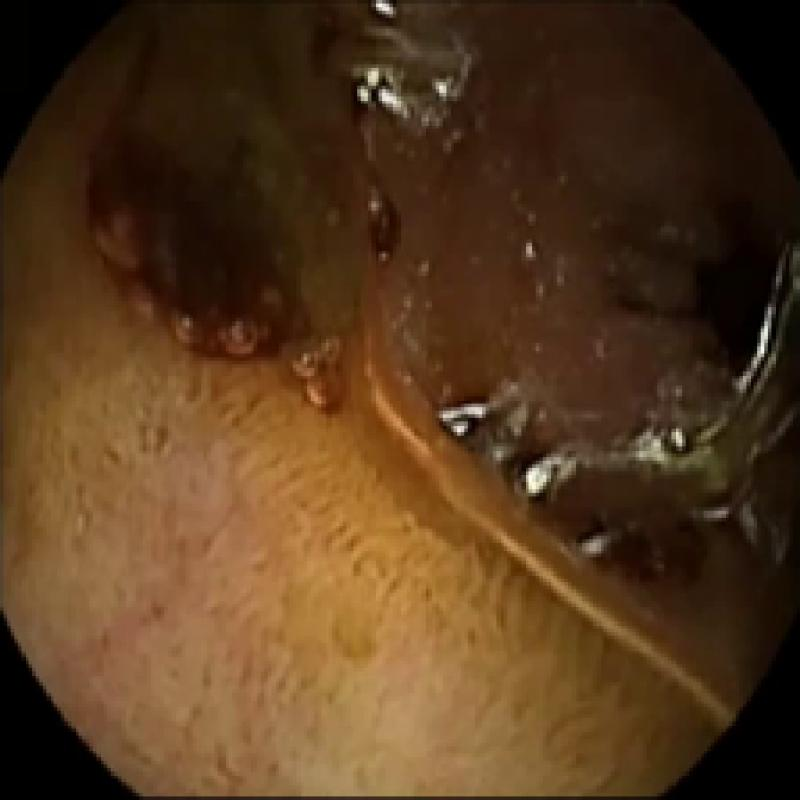bleeding: (88, 40, 300, 350), (679, 189, 781, 372), (564, 506, 721, 588), (362, 181, 405, 258), (311, 7, 364, 61)
